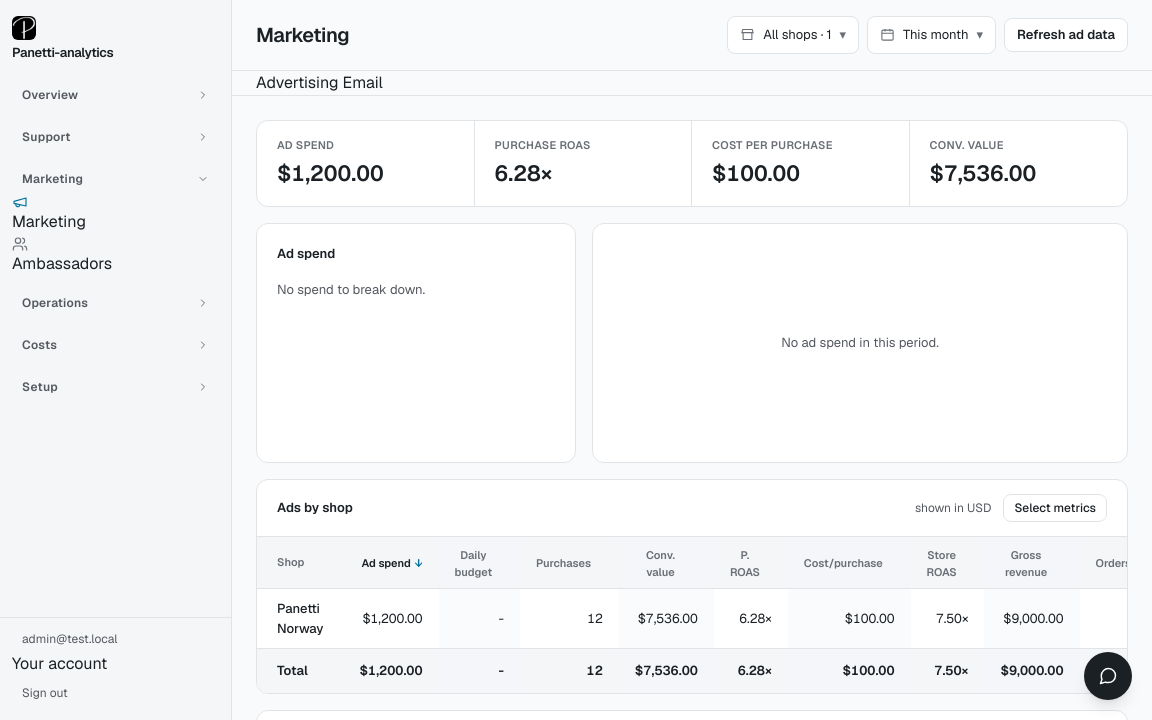
MarketingClient › falls back to a generic message when the sync error body is not JSON
The image size is (1152, 720).
Click the button "Refresh ad data" at (1066, 35), box [1004,18,1128,52]
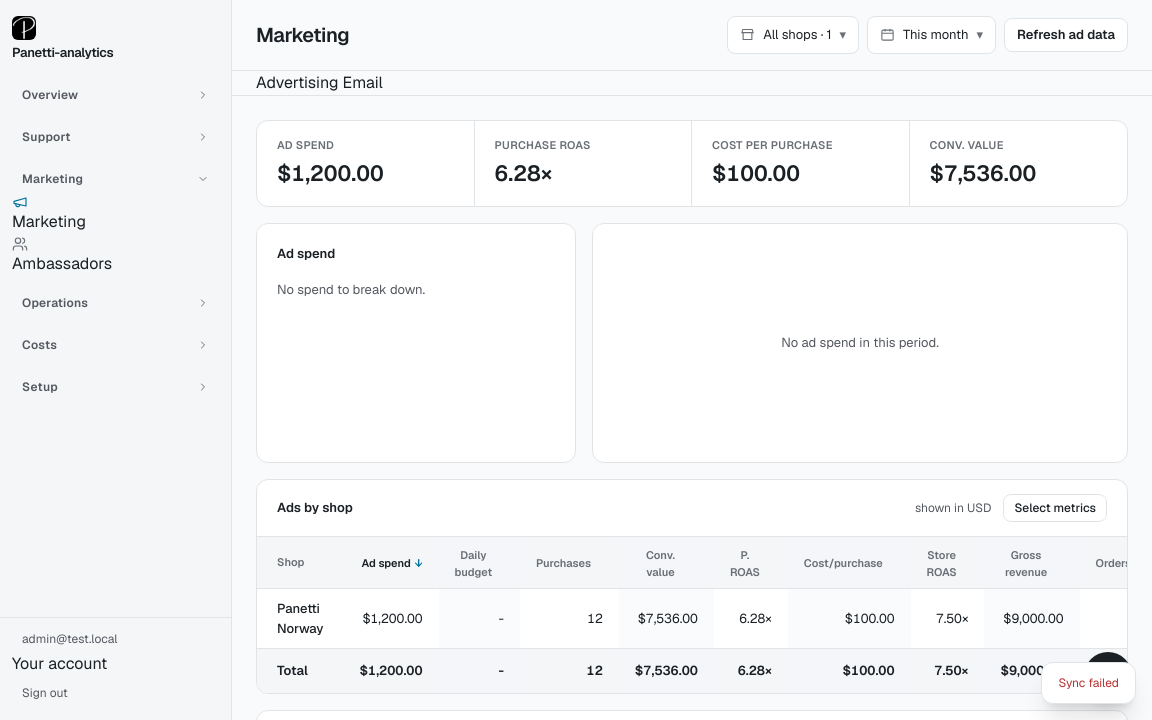
expect the button "Sync failed" is shown: met, box [1041,662,1136,704]
